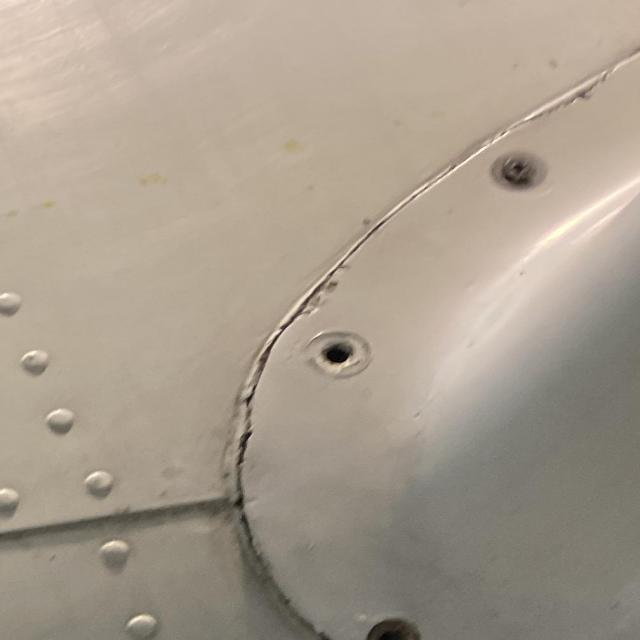Crack: (221, 322, 292, 581), (272, 250, 349, 343), (350, 233, 367, 250)
Missing-head: (309, 329, 372, 375), (366, 616, 423, 640)
